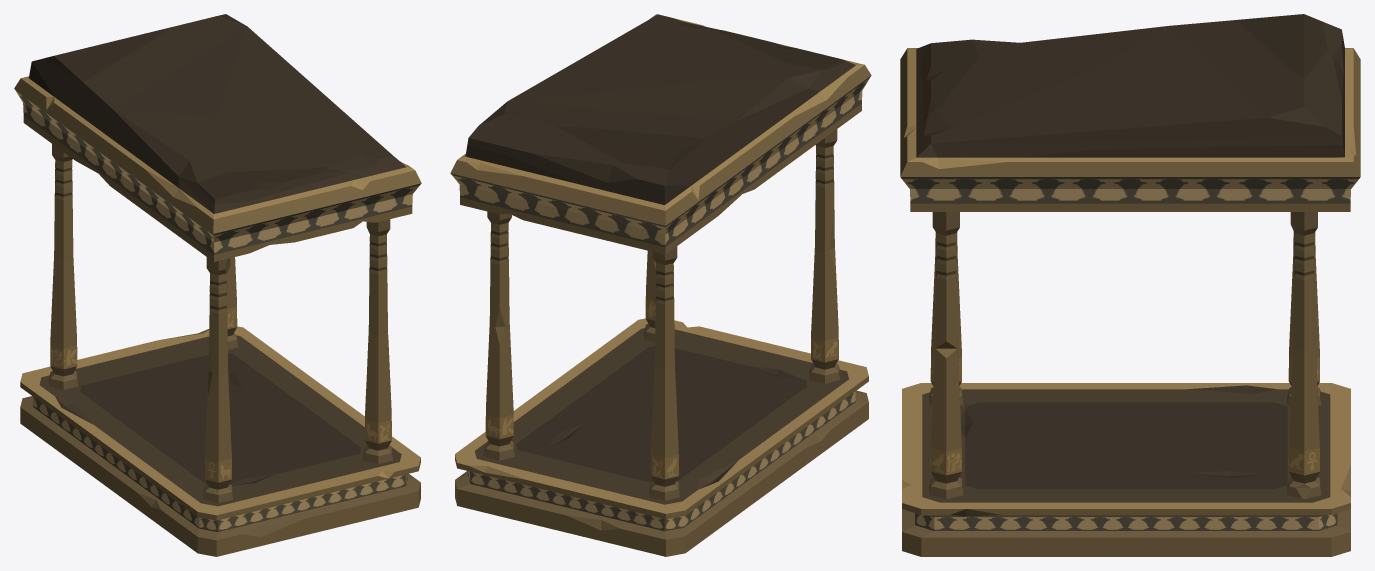
The model's file is SM_Veh_Barge_01_Throne_01.fbx.
3 renders of one model, left to right at view 1: azimuth 30°, elevation 25°; view 2: azimuth 150°, elevation 25°; view 3: azimuth 270°, elevation 25°, orthographic. The views are drawn at different scales.
Visible parts, largest first — view 1: SM_Veh_Barge_01_Throne_01; view 2: SM_Veh_Barge_01_Throne_01; view 3: SM_Veh_Barge_01_Throne_01.
Part boxes in pixels (bbox=[...]): SM_Veh_Barge_01_Throne_01: bbox=[14, 14, 421, 556]; SM_Veh_Barge_01_Throne_01: bbox=[450, 14, 871, 556]; SM_Veh_Barge_01_Throne_01: bbox=[900, 14, 1360, 556].
Size of the model in its own units: 201 by 319 by 311.
